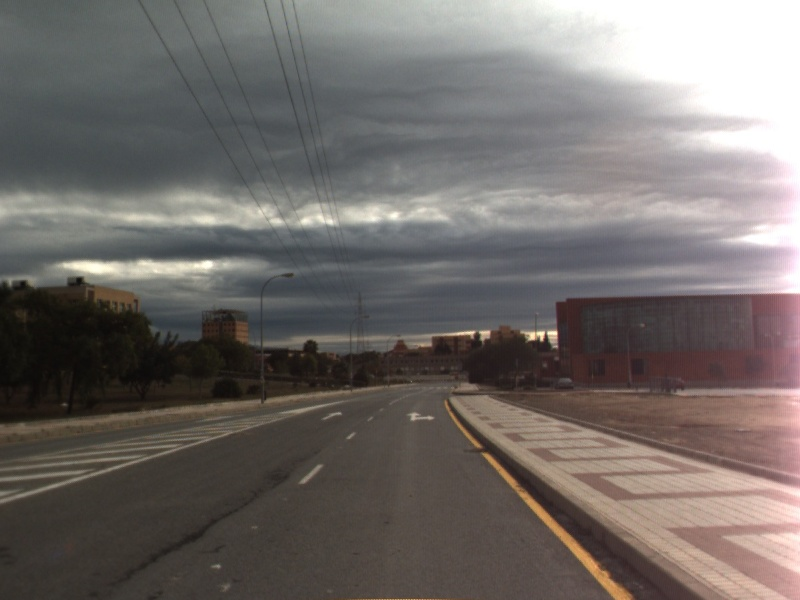STRAIGHT: (319, 409, 344, 422)
STRAIGHT_RIGHT: (404, 409, 437, 423)
